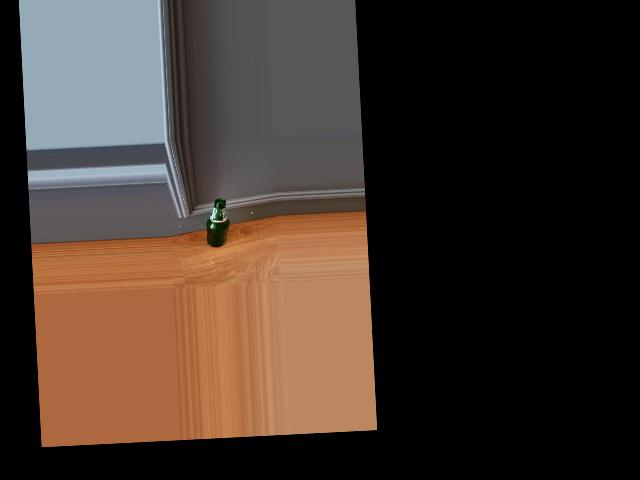beer: (204, 198, 230, 247)
